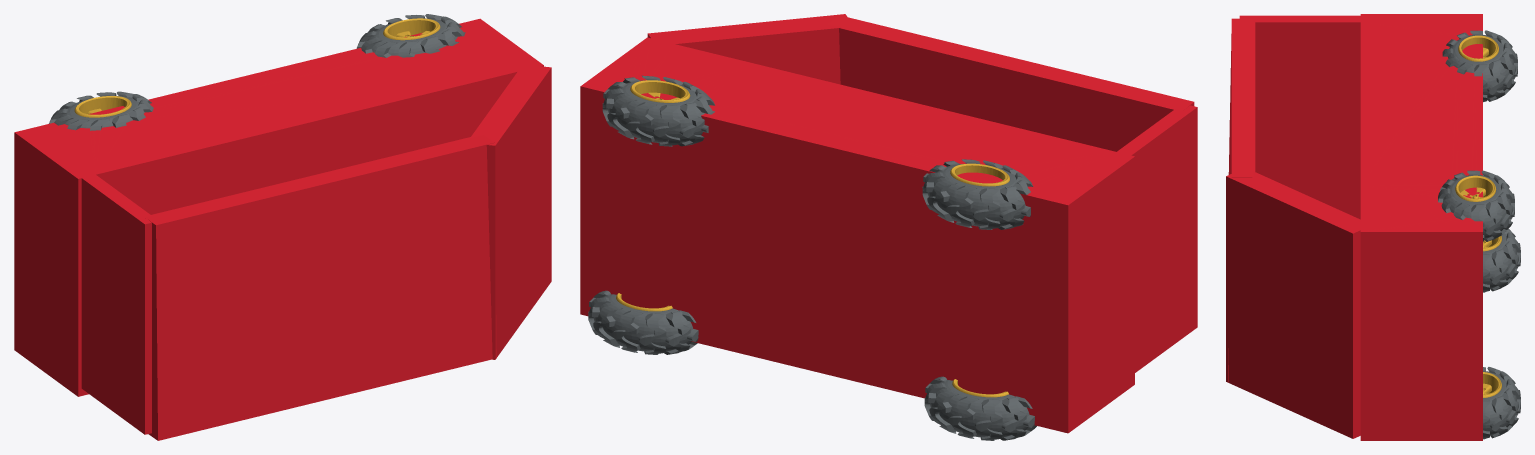
Rendered from tinker.obj.
3 views of the same model, side by side, from view 1: azimuth 30°, elevation 25°; view 2: azimuth 150°, elevation 25°; view 3: azimuth 270°, elevation 25° (orthographic). The views are drawn at different scales.
Visible parts, largest first — view 1: group_0_15277357, group_0_6383466, group_0_14789940; view 2: group_0_15277357, group_0_6383466, group_0_14789940; view 3: group_0_15277357, group_0_6383466, group_0_14789940.
Part boxes in pixels (left/top/right/bottom): group_0_15277357: left=14, top=18, right=551, bottom=440; group_0_6383466: left=49, top=14, right=465, bottom=130; group_0_14789940: left=74, top=18, right=440, bottom=117; group_0_15277357: left=580, top=14, right=1197, bottom=433; group_0_6383466: left=588, top=75, right=1036, bottom=440; group_0_14789940: left=616, top=80, right=1009, bottom=397; group_0_15277357: left=1226, top=14, right=1482, bottom=440; group_0_6383466: left=1438, top=30, right=1520, bottom=439; group_0_14789940: left=1455, top=35, right=1501, bottom=397.
Bounding box in the file's own units: 133 × 66 × 75.48.
